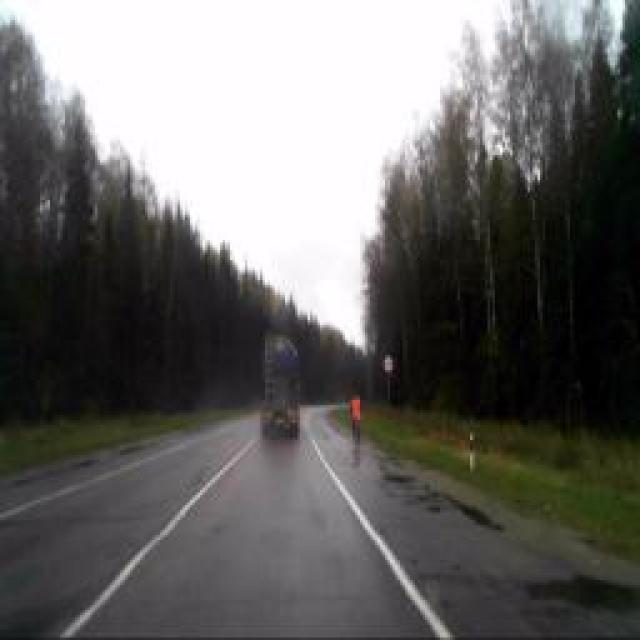sign: (381, 354, 394, 376)
